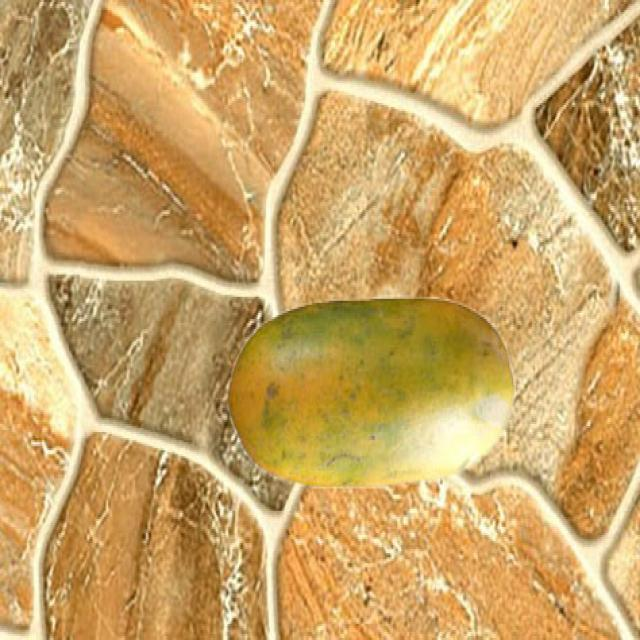Pepaya rippen: (228, 292, 521, 500)
